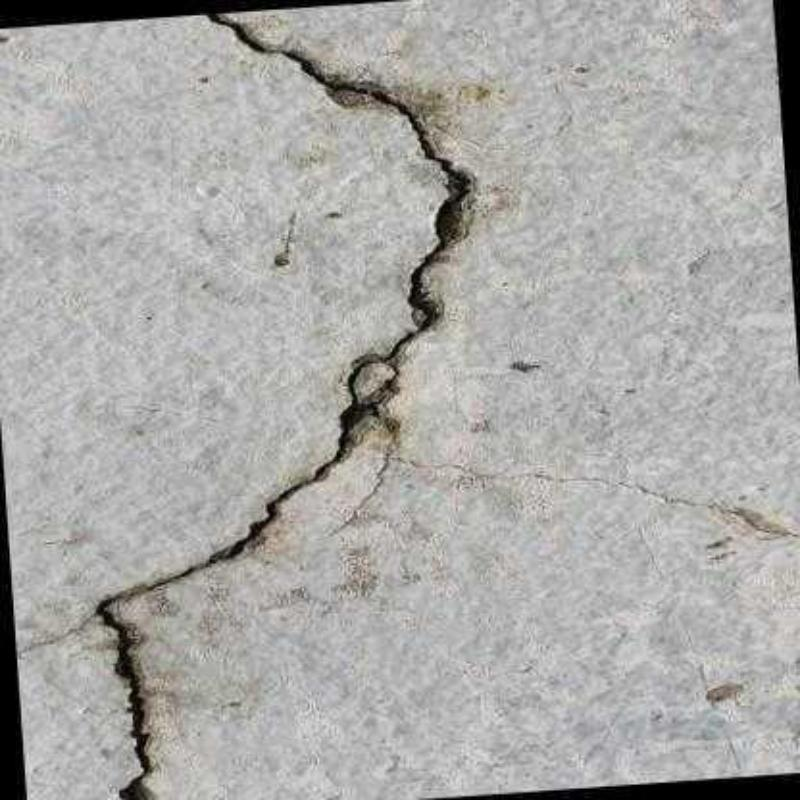crack: (85, 13, 467, 800), (537, 475, 798, 538), (329, 458, 517, 537), (354, 354, 400, 446), (15, 617, 90, 657)
